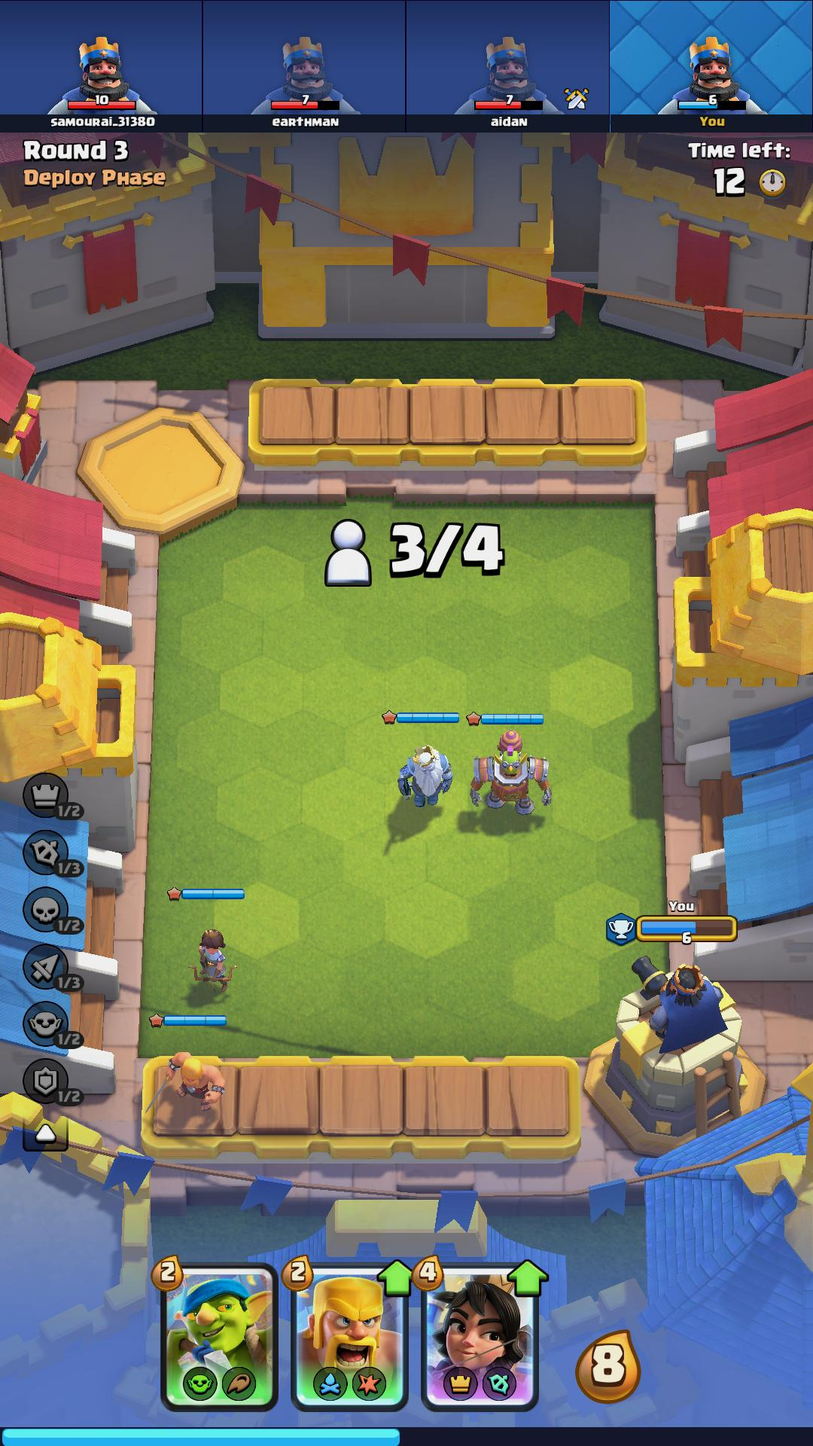barbarian: (149, 1044, 233, 1110)
ghost: (386, 737, 455, 820)
hand-barbarian: (296, 1263, 405, 1408)
hand-princess: (424, 1265, 538, 1415)
hand-spear: (162, 1268, 275, 1407)
machine: (465, 729, 557, 833)
princess: (182, 919, 245, 994)
upgrade: (376, 1254, 419, 1303), (504, 1255, 551, 1299)
